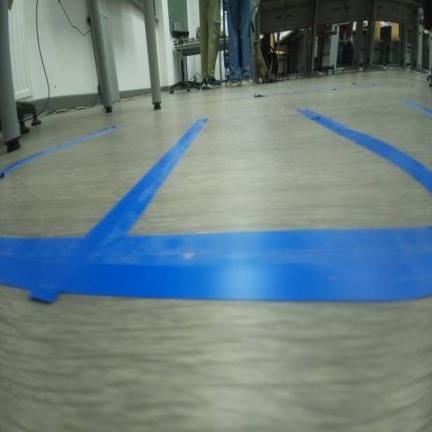place: (33, 104, 431, 296), (0, 114, 214, 294), (296, 98, 431, 200)
